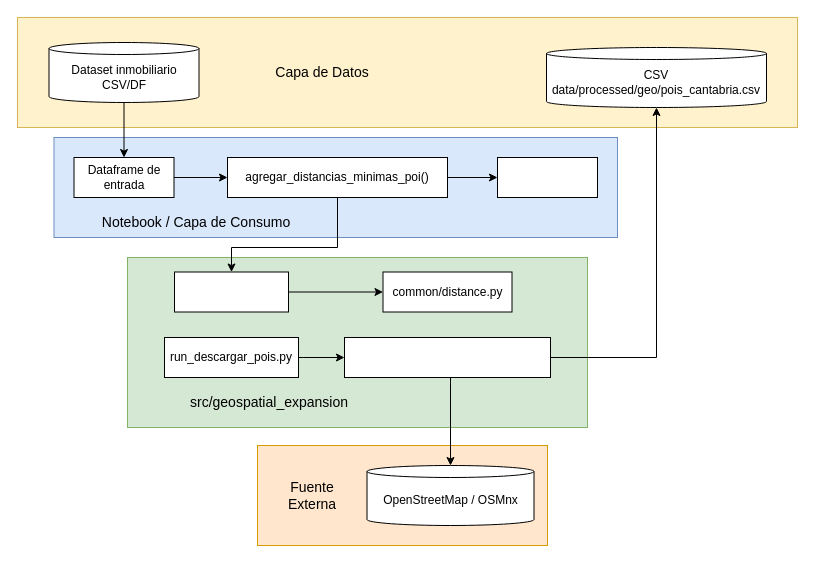
Image size: 815x563. Some labels were removed from this diagram. The shapes that lost their labels are listed below. From the top down, each one's centre as x and y in pixels, then its label:
point (547, 177): DataFrame enriquecido
point (231, 291): enricher.py
point (447, 357): download/osm_downloader.py
